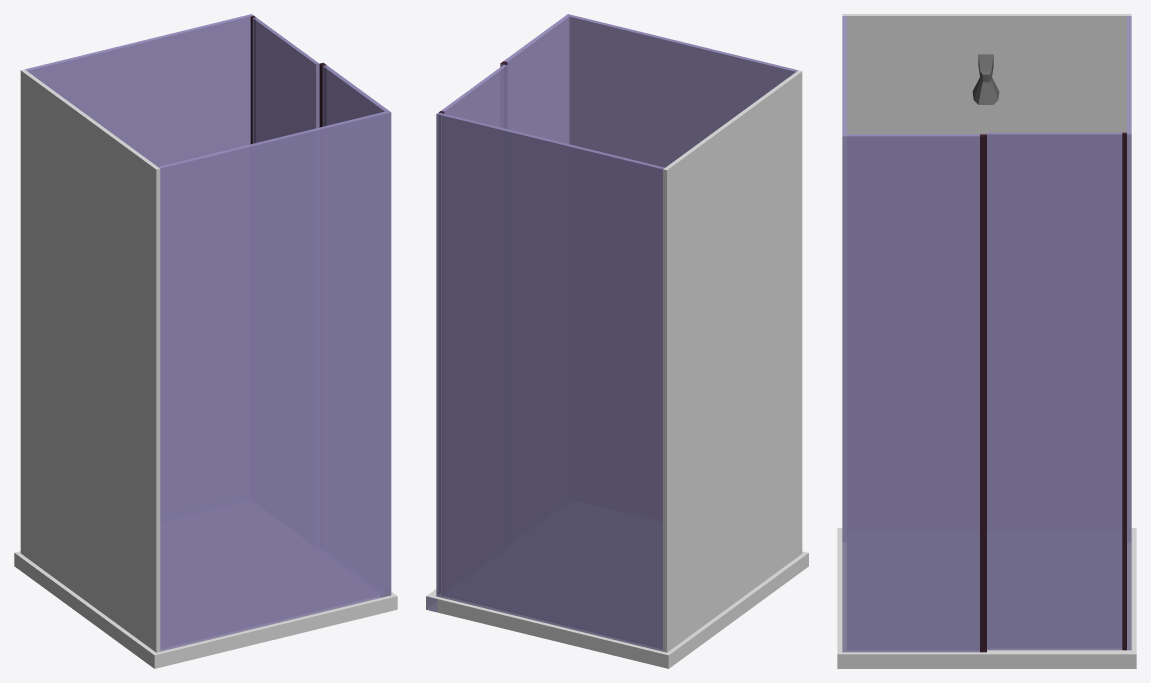
Rendered from Ducha.fbx.
3 views of the same model, side by side, from view 1: azimuth 30°, elevation 25°; view 2: azimuth 150°, elevation 25°; view 3: azimuth 270°, elevation 25° (orthographic). The views are drawn at different scales.
Visible parts, largest first — view 1: Ducha; view 2: Ducha; view 3: Ducha.
Part boxes in pixels (bbox=[...]): Ducha: bbox=[14, 14, 397, 668]; Ducha: bbox=[426, 14, 808, 668]; Ducha: bbox=[837, 14, 1136, 668].
Size of the model in its own units: 100 by 195 by 100.
